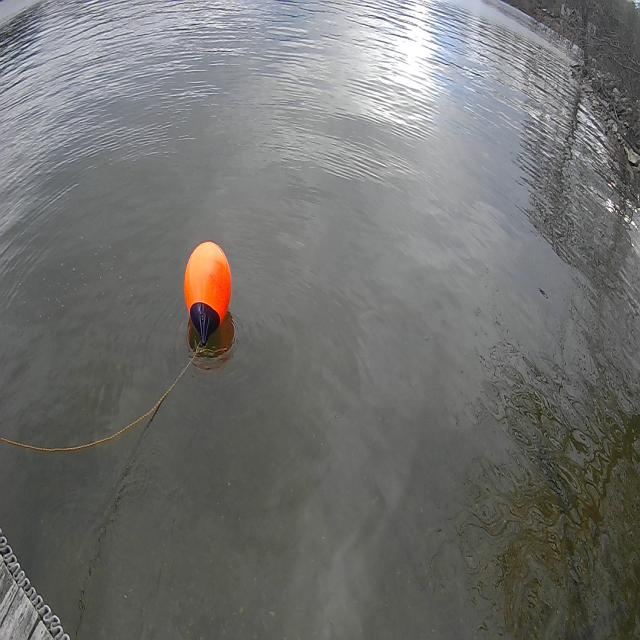Buoy: (180, 233, 234, 351)
